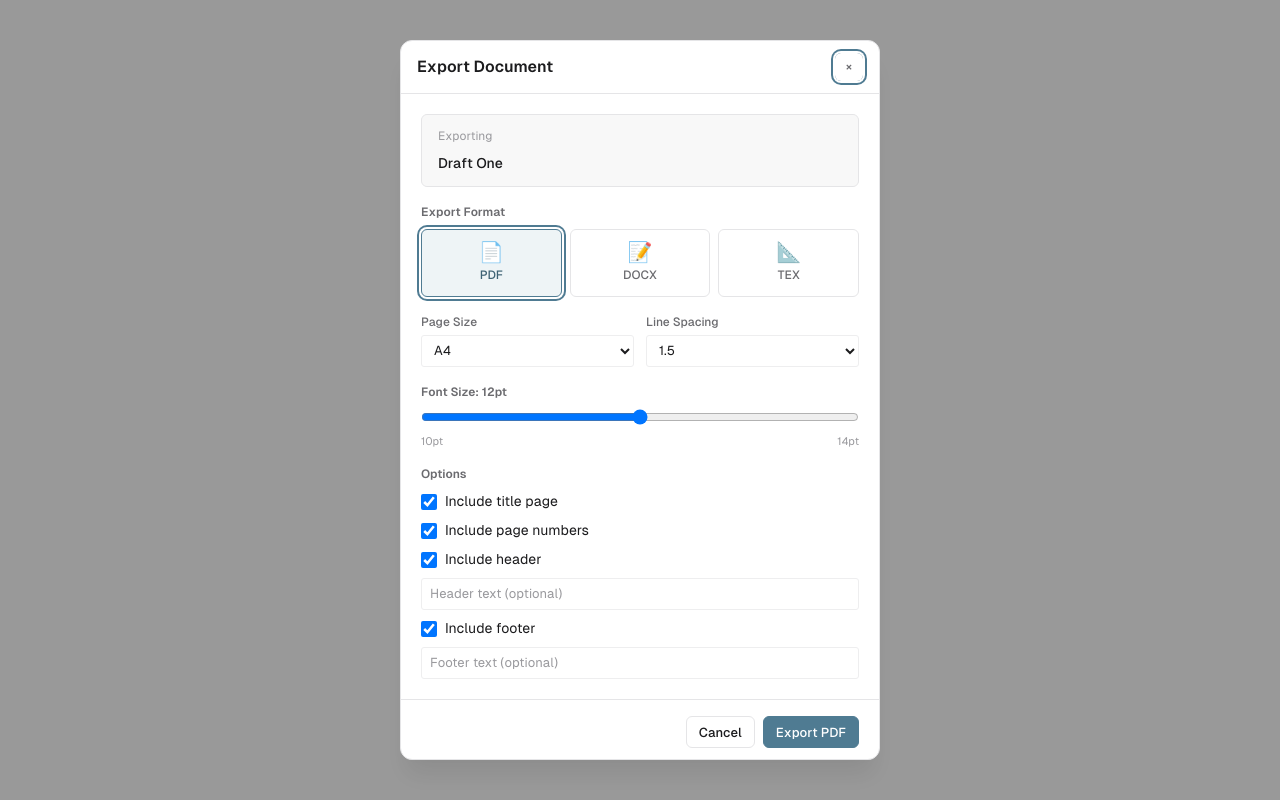
Test: ExportPanel › shows options per format (PDF/DOCX vs LaTeX)
Check: the text "Include page numbers" is shown, box [445,520,589,541]
Check: the text "Include header" is shown, box [445,549,542,570]
Click the button "📐 TEX" at (789, 263), box [718,229,859,297]
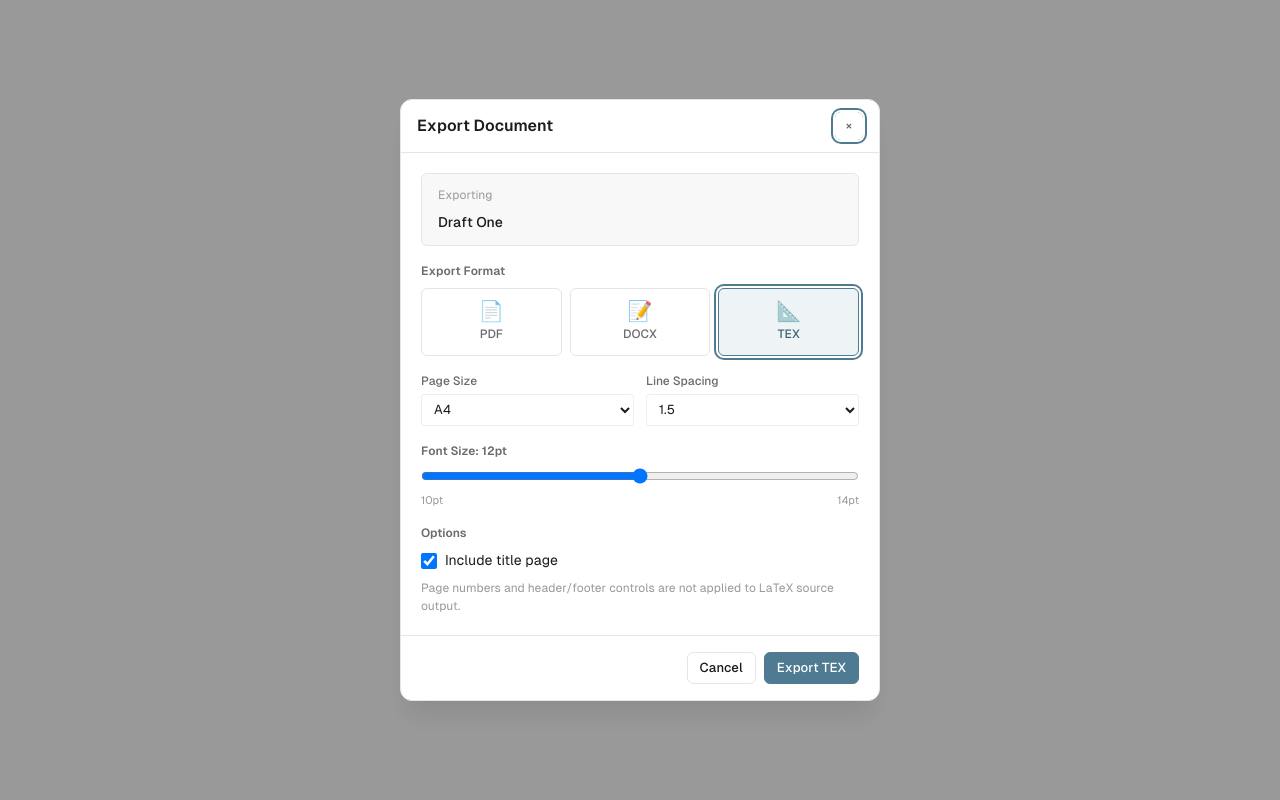
Check: the text "Include page numbers" is gone
Check: the text "Include header" is gone
Check: the text "Include footer" is gone
Click the button "📝 DOCX" at (640, 322), box [570,288,710,356]
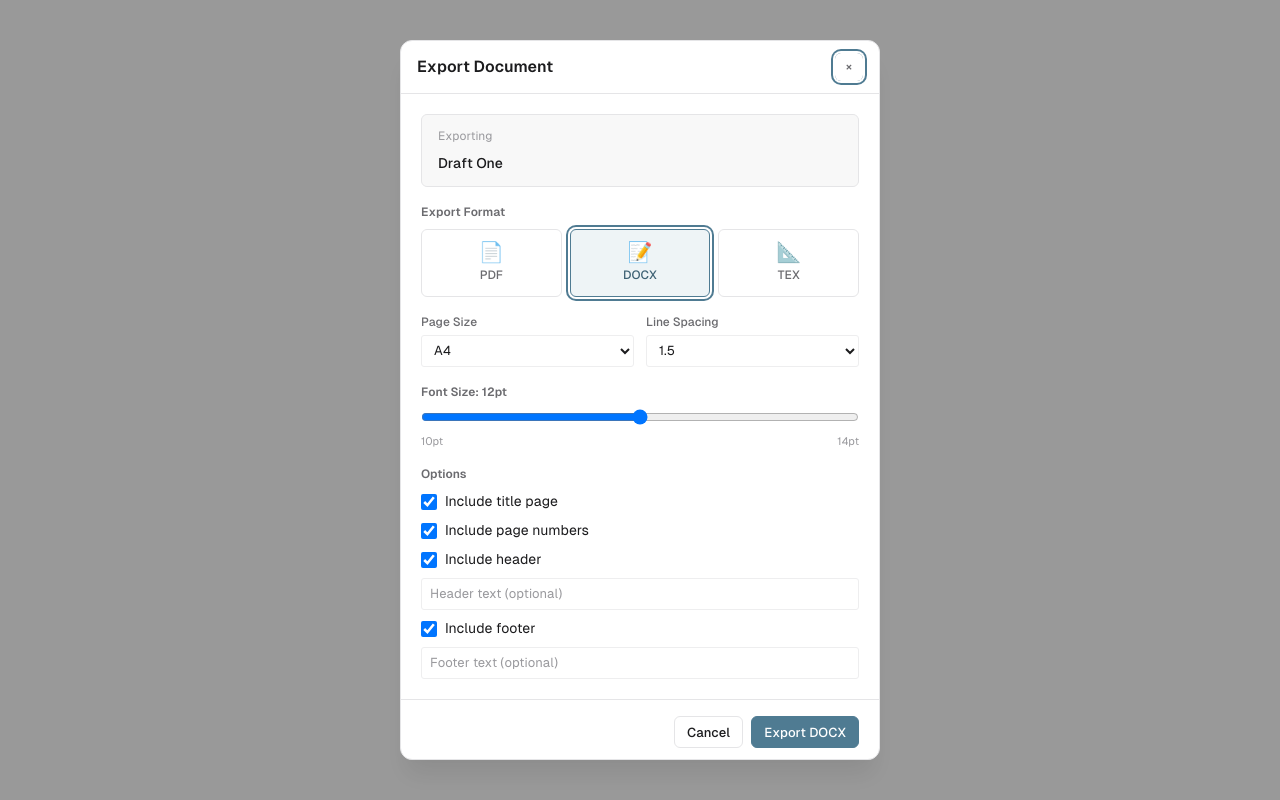
Check: the text "Include page numbers" is shown, box [445,520,589,541]
Check: the text "Include header" is shown, box [445,549,542,570]
Check: the text "Include footer" is shown, box [445,618,536,639]
